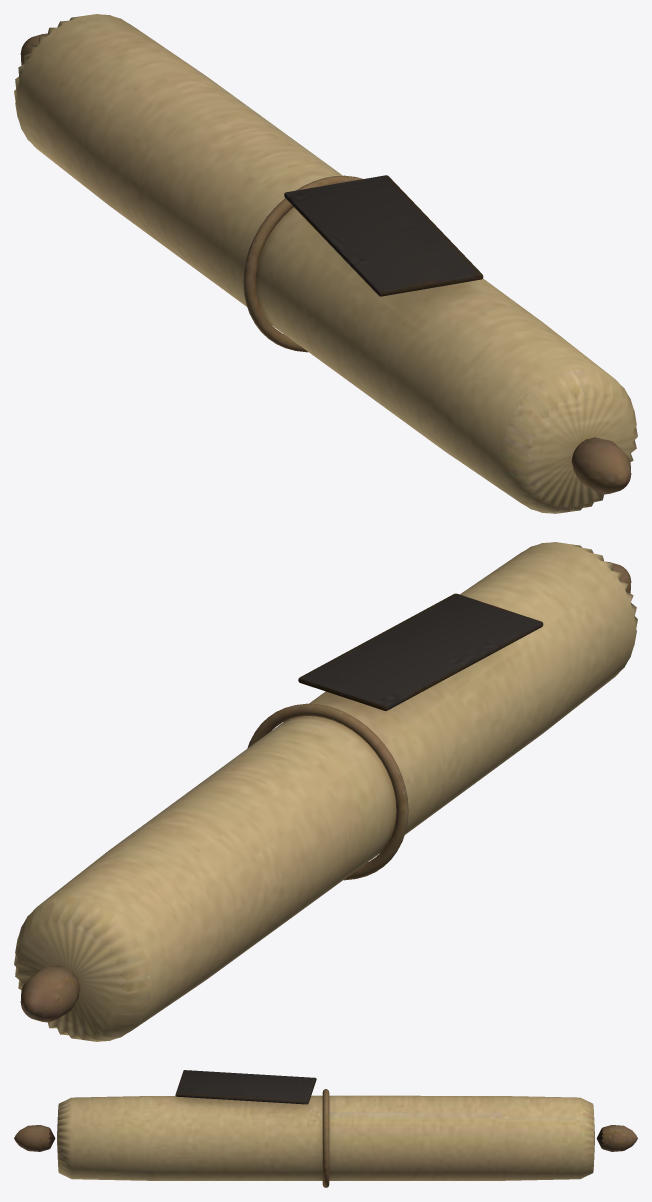
Rendered from zosimos.glb.
3 views of the same model, one above another, from view 1: azimuth 30°, elevation 25°; view 2: azimuth 150°, elevation 25°; view 3: azimuth 270°, elevation 25° (orthographic). The views are drawn at different scales.
Parts seen in each view (by area): view 1: zosimos; view 2: zosimos; view 3: zosimos.
Part boxes in pixels (x1,y1,x2,y2): zosimos: (14, 14, 637, 513); zosimos: (14, 542, 637, 1041); zosimos: (14, 1070, 637, 1187).
Size of the model in its own units: 0.0369 by 0.038 by 0.2317.
1 material, 1 textured.
